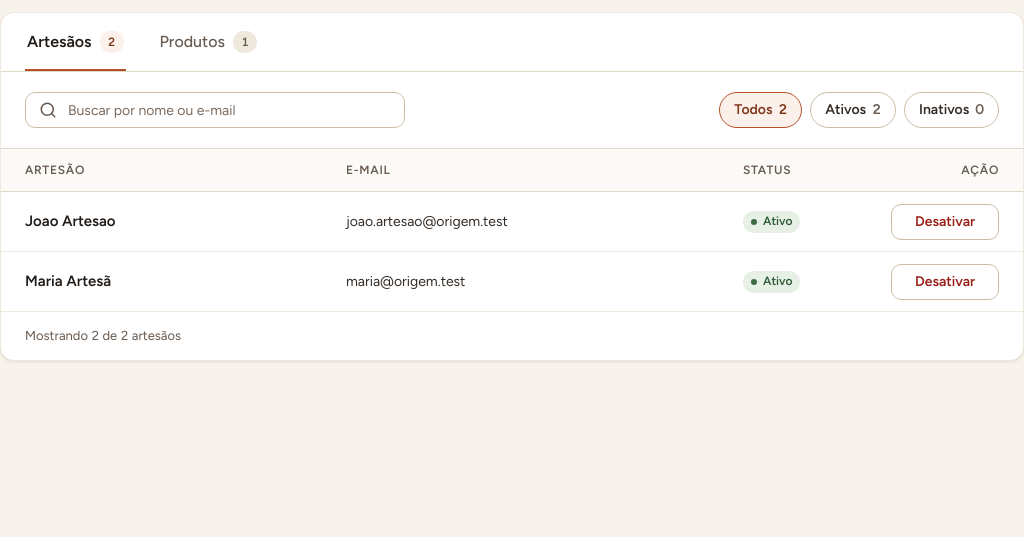
PainelModeracao › busca por nome ou e-mail ignorando acentos e limpa os filtros
The image size is (1024, 537).
Expected: the list item "Joao Artesao" is shown, left=1, top=192, right=1023, bottom=252
In the search field: (215, 110) left=25, top=92, right=405, bottom=128, type "artesa"
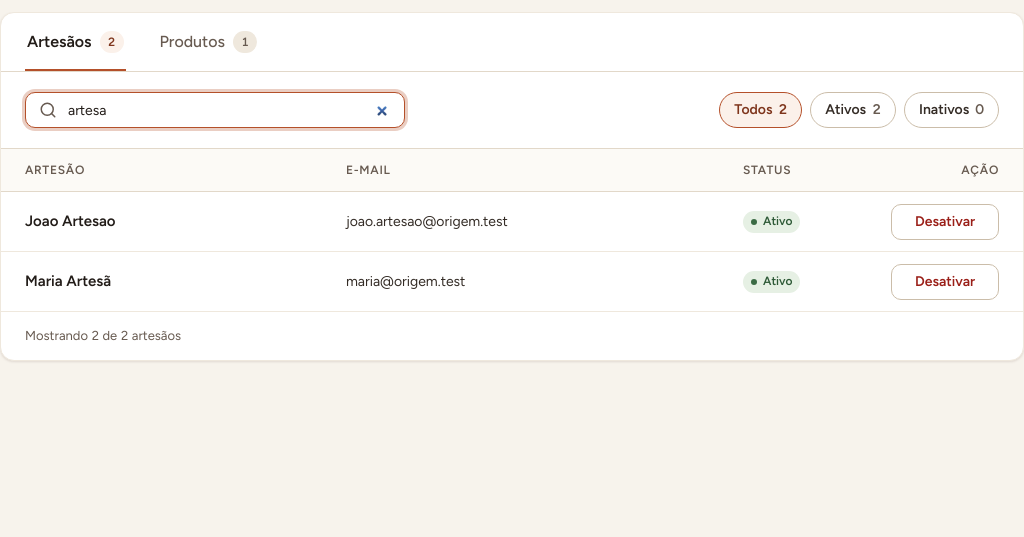
Expected: the list item "Maria Artesã" is shown, left=1, top=252, right=1023, bottom=312
Expected: the list item "Joao Artesao" is shown, left=1, top=192, right=1023, bottom=252
Replace the text in the search field with "maria@": (215, 110) left=25, top=92, right=405, bottom=128
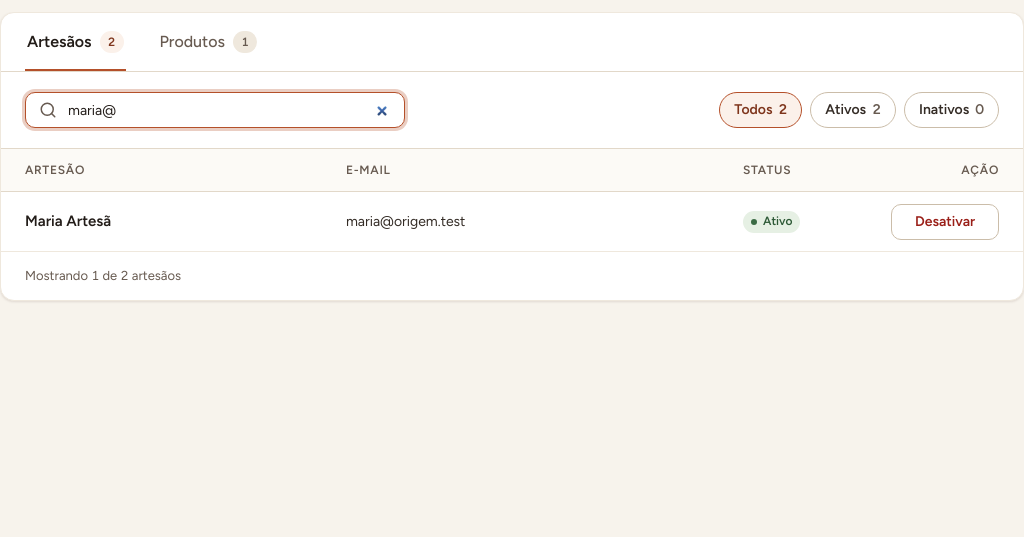
Now the text "Joao Artesao" is gone
Now the text "Mostrando 1 de 2 artesãos" is shown, box left=25, top=268, right=181, bottom=283
Replace the text in the search field with "inexistente": (215, 110) left=25, top=92, right=405, bottom=128
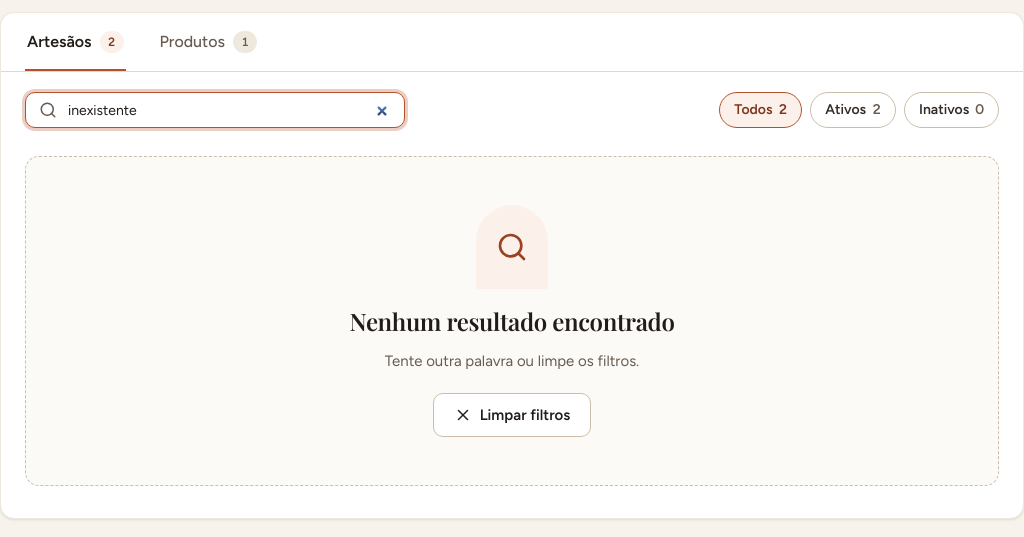
Now the heading "Nenhum resultado encontrado" is shown, box left=350, top=307, right=674, bottom=336
Click the button "Limpar filtros": click(512, 415) left=433, top=393, right=591, bottom=437
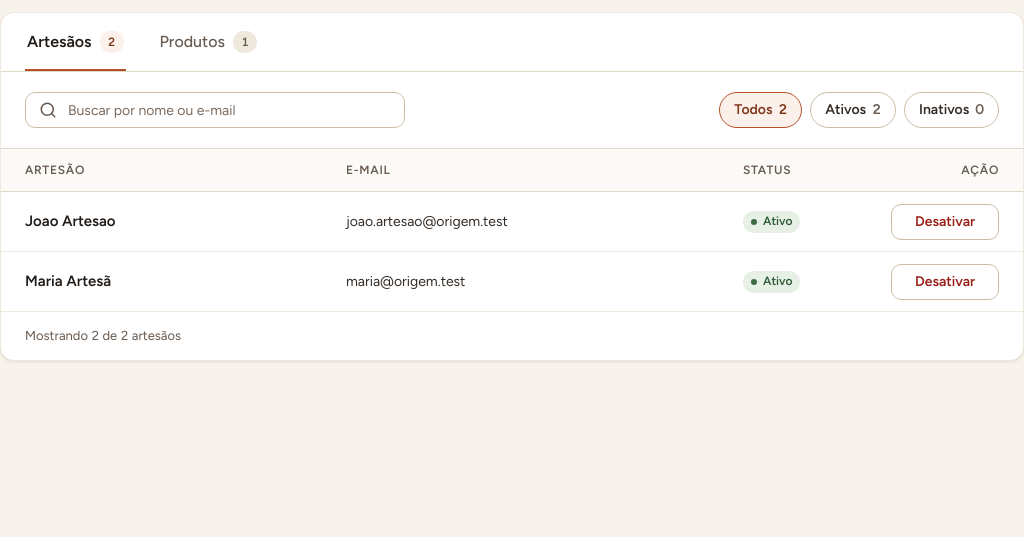
Now the list item "Joao Artesao" is shown, box left=1, top=192, right=1023, bottom=252
